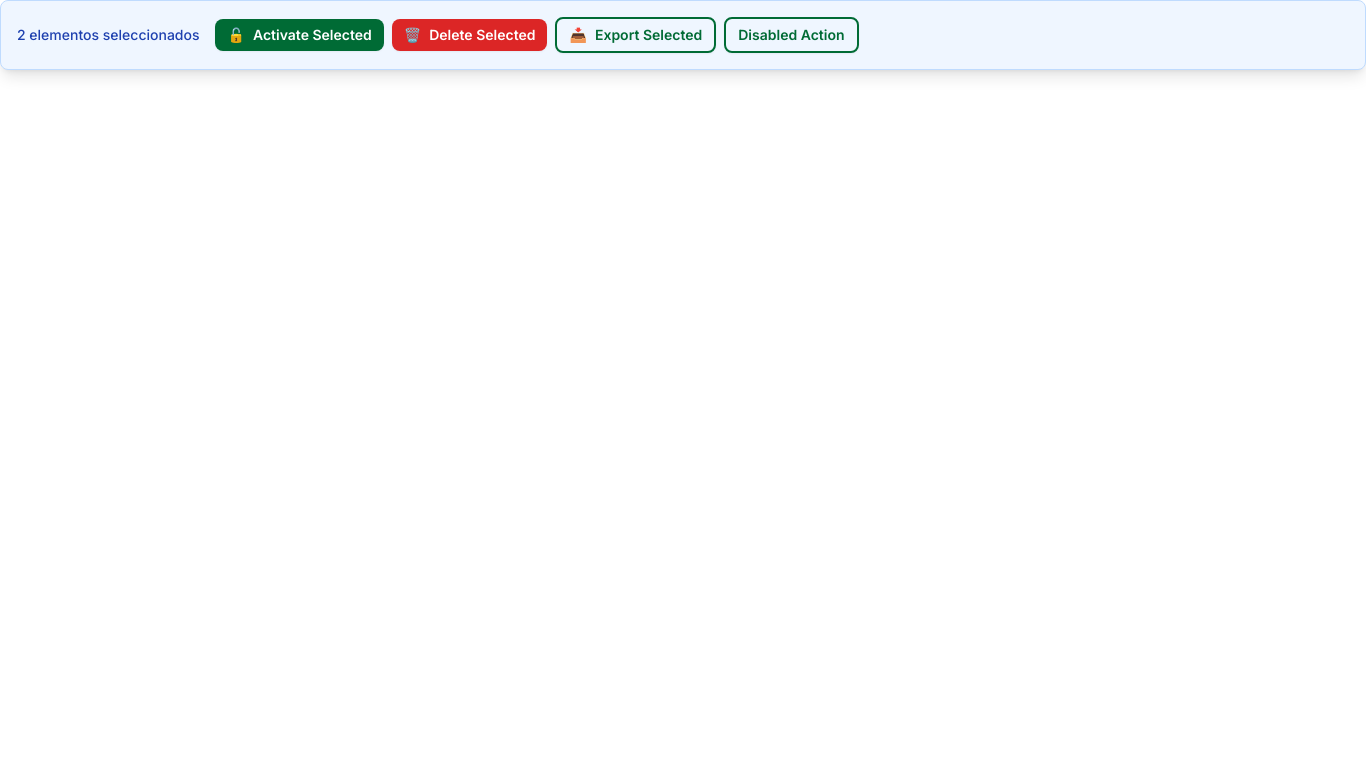
Test: BulkActions › shows confirmation dialog for actions with confirmMessage
The width and height of the screenshot is (1366, 768).
Click the button "🗑️Delete Selected" at {"x": 470, "y": 35}, box [392,19,548,51]
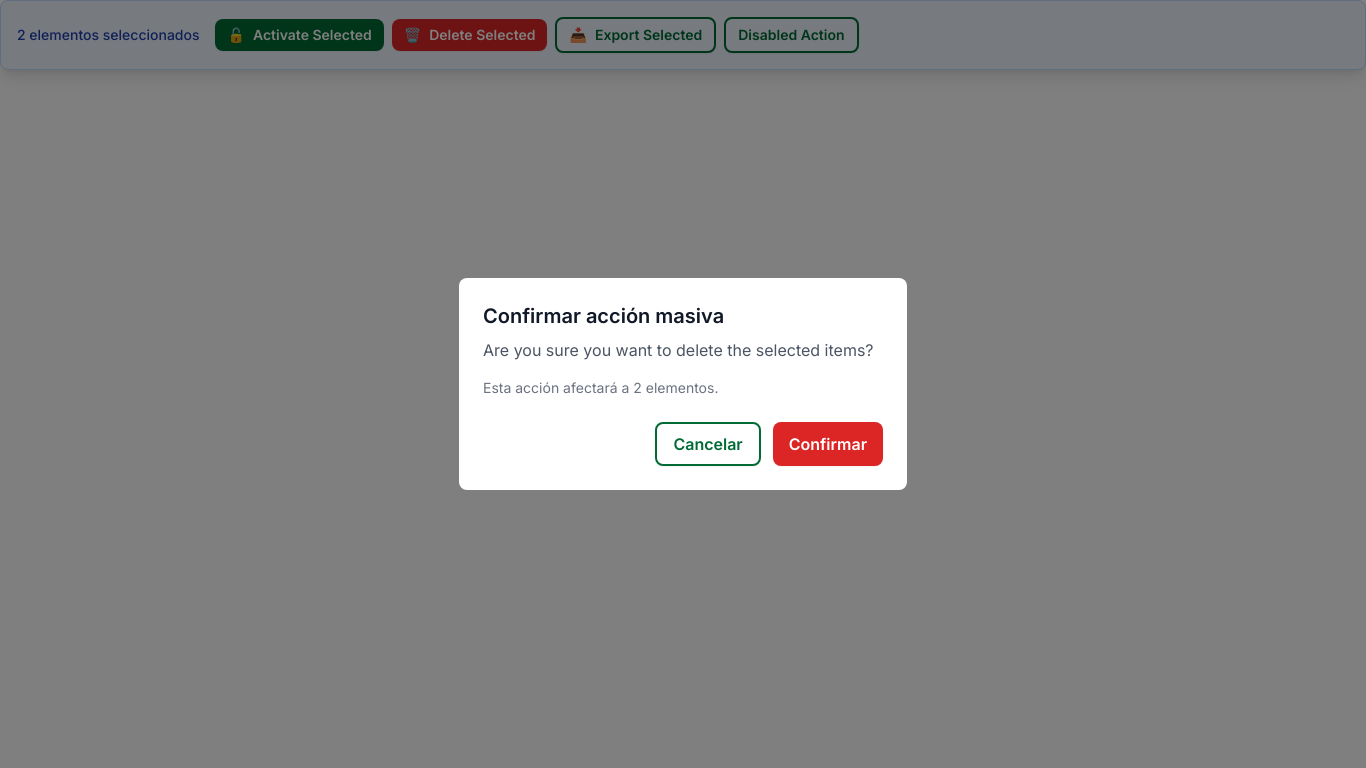
Expected: the heading "Confirmar acción masiva" is shown, [483,304,724,328]
Expected: the text "Are you sure you want to delete the selected items?" is shown, [483,338,883,362]
Expected: the text "Esta acción afectará a 2 elementos." is shown, [483,379,718,396]
